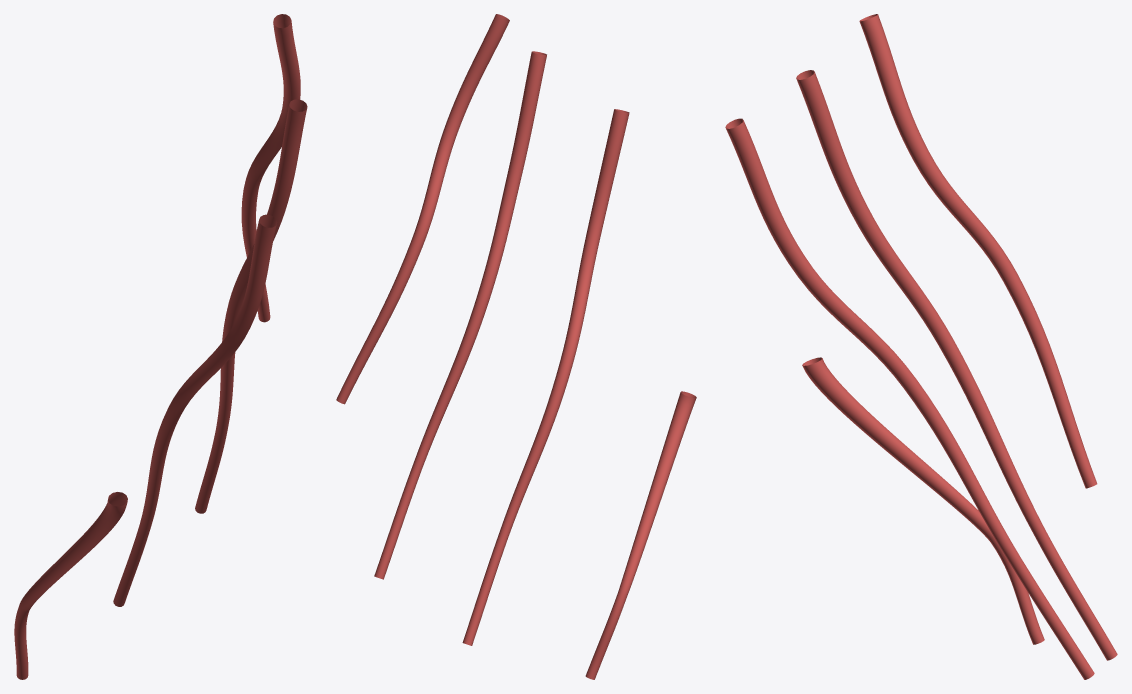
The picture shows the model from 3 angles, left to right: view 1: azimuth 30°, elevation 25°; view 2: azimuth 150°, elevation 25°; view 3: azimuth 270°, elevation 25°; orthographic projection. The views are drawn at different scales.
Parts seen in each view (by area): view 1: 左侧跖背动脉; view 2: 左侧跖背动脉; view 3: 左侧跖背动脉.
Boxes of the visible parts, x1,y1,x2,y2 form: 左侧跖背动脉: (14,14,307,679); 左侧跖背动脉: (336,14,696,679); 左侧跖背动脉: (725,14,1117,679).
Size of the model in its own units: 0.0596 by 0.1303 by 0.0638.
